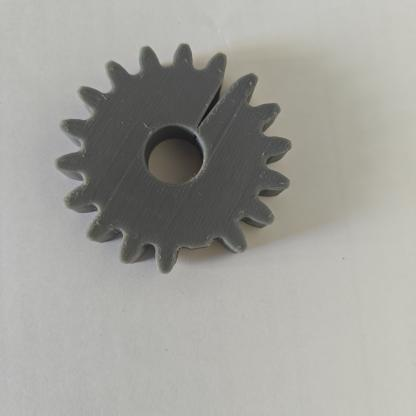defect: (181, 43, 259, 154), (151, 214, 247, 280)
gear: (35, 31, 319, 295)
